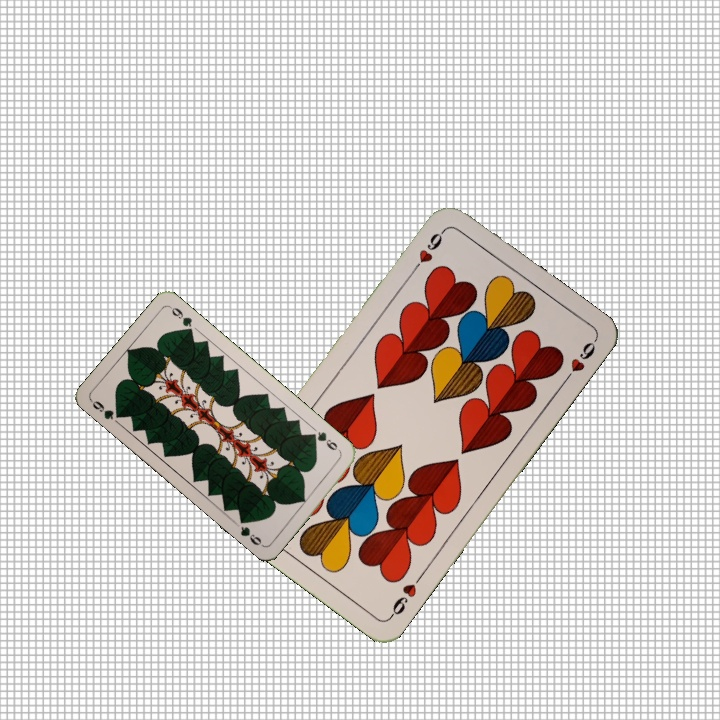G9: (306, 427, 344, 456), (87, 396, 126, 422)
H9: (385, 570, 426, 621), (407, 226, 448, 277)
